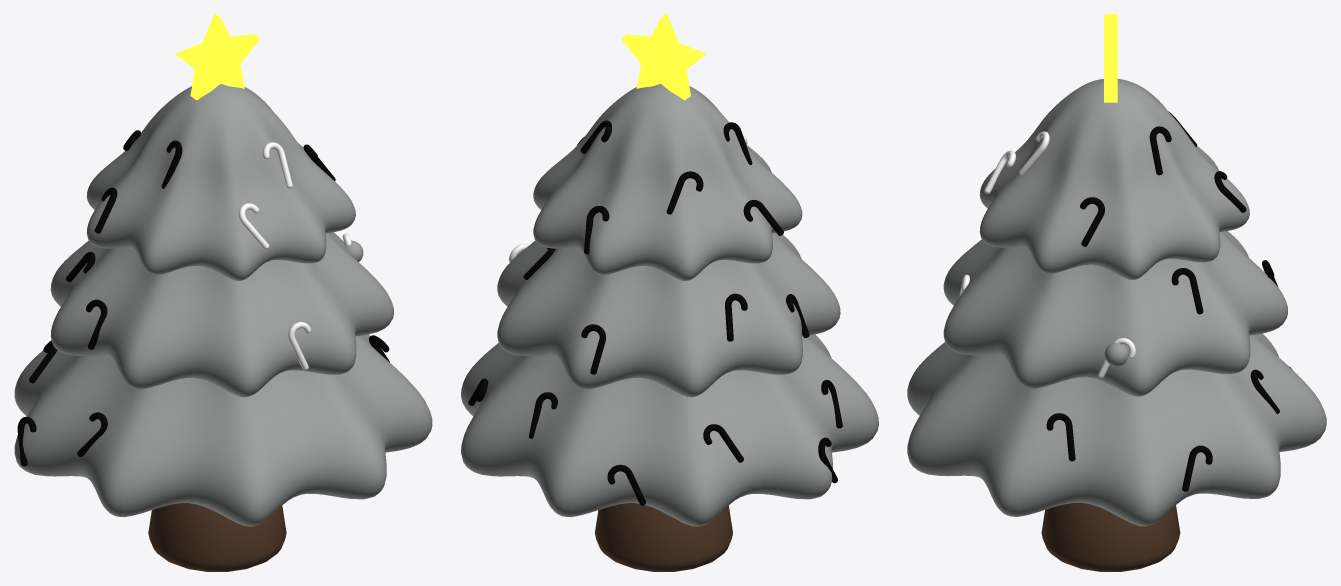
Rendered from christmasTree.glb.
The picture shows the model from 3 angles, left to right: view 1: azimuth 30°, elevation 25°; view 2: azimuth 150°, elevation 25°; view 3: azimuth 270°, elevation 25°; orthographic projection.
Visible parts, largest first — view 1: LeafBottom, LeafMiddle, LeafTop, Tree, Star; view 2: LeafBottom, LeafMiddle, LeafTop, Tree, Star; view 3: LeafBottom, LeafMiddle, LeafTop, Tree, Star.
Boxes of the visible parts, x1,y1,x2,y2 form: LeafBottom: [14, 334, 432, 526]; LeafMiddle: [50, 232, 393, 397]; LeafTop: [86, 84, 355, 280]; Tree: [148, 503, 286, 571]; Star: [175, 14, 259, 100]; LeafBottom: [461, 334, 878, 526]; LeafMiddle: [497, 233, 840, 397]; LeafTop: [533, 84, 802, 280]; Tree: [595, 503, 732, 571]; Star: [621, 14, 705, 100]; LeafBottom: [907, 333, 1326, 526]; LeafMiddle: [943, 231, 1287, 396]; LeafTop: [979, 79, 1249, 279]; Tree: [1041, 502, 1180, 571]; Star: [1104, 14, 1117, 102].
Size of the model in its own units: 2.14 by 2.96 by 2.1.
22 materials, 17 textured.
